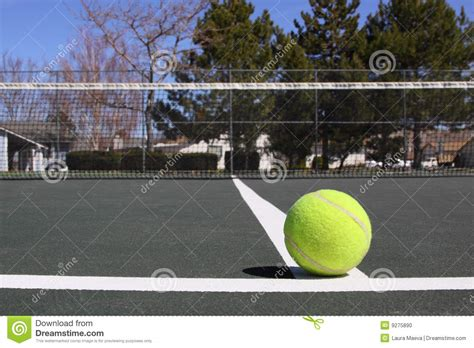tennis_ball: (283, 188, 372, 277)
